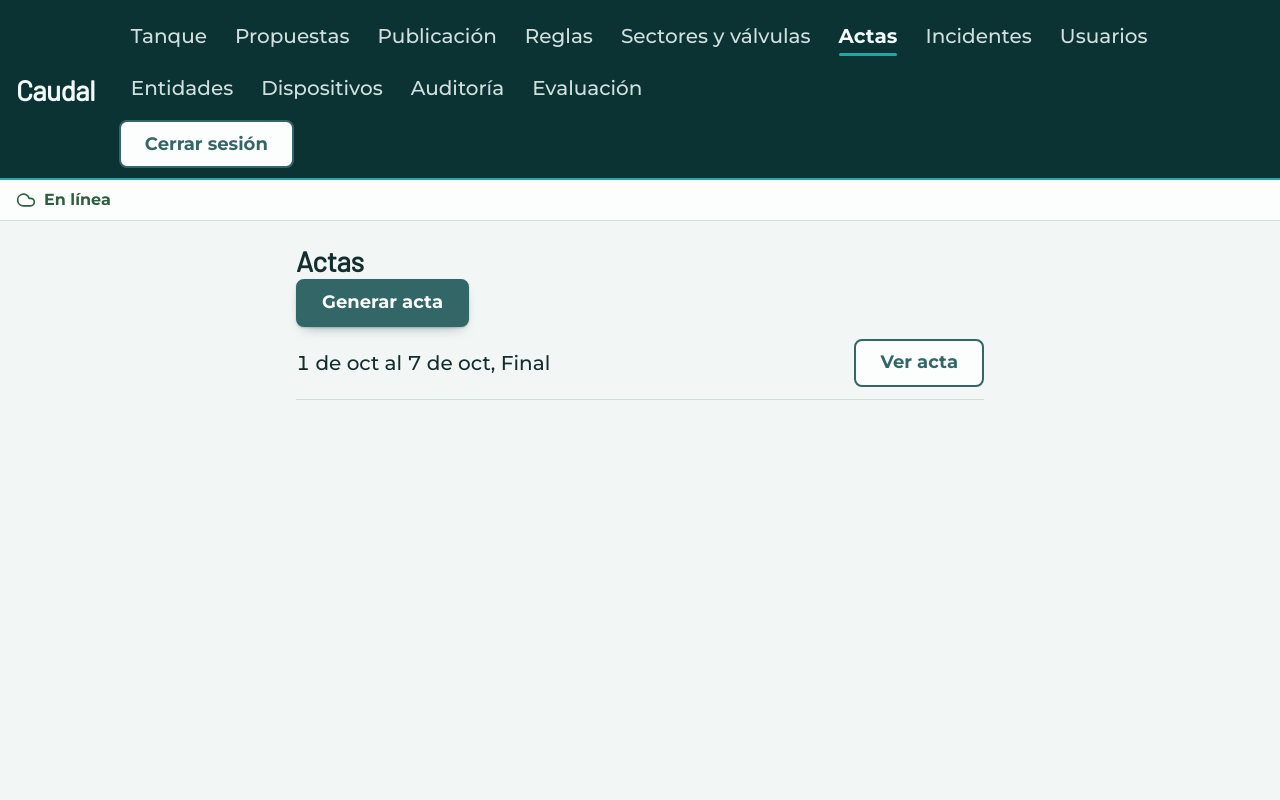
Test: MinutesPage (S20, board) › shows an error when the PDF cannot be downloaded
This screenshot has width=1280, height=800.
Click the button "Ver acta": coordinates (919, 363) top-left (854, 339), bottom-right (984, 387)
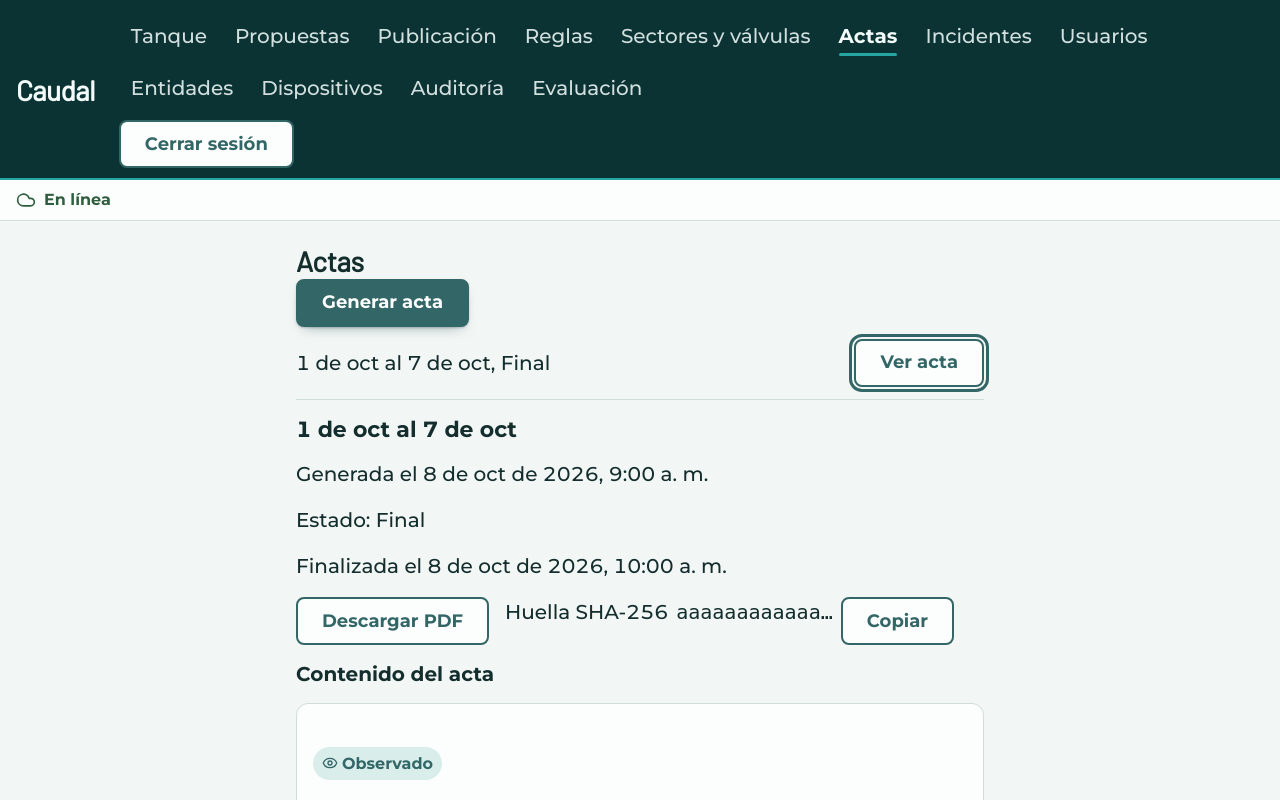
Click the button "Descargar PDF": coordinates (393, 621) top-left (296, 597), bottom-right (489, 645)
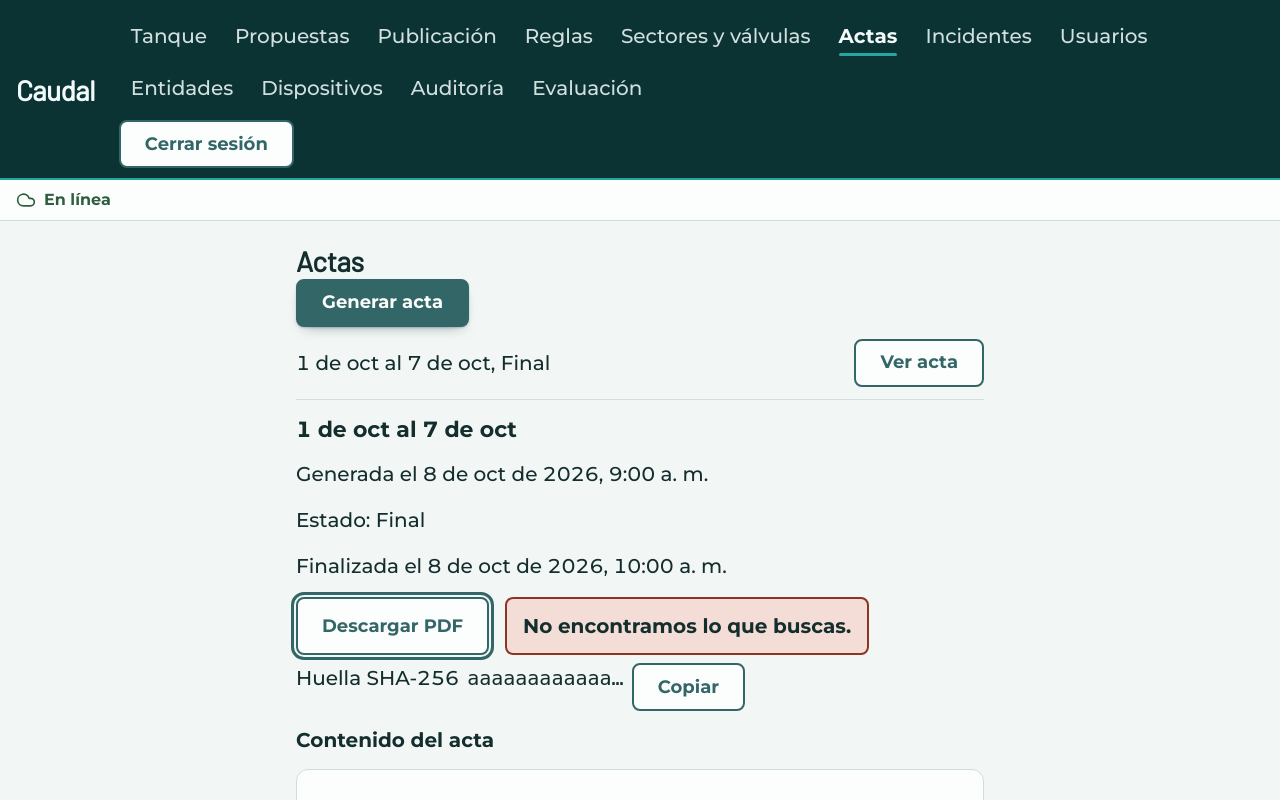
Expected: the button "Descargar PDF" is enabled, top-left (296, 597), bottom-right (489, 655)
Expected: the message "No encontramos lo que buscas." is shown, top-left (505, 597), bottom-right (869, 655)
